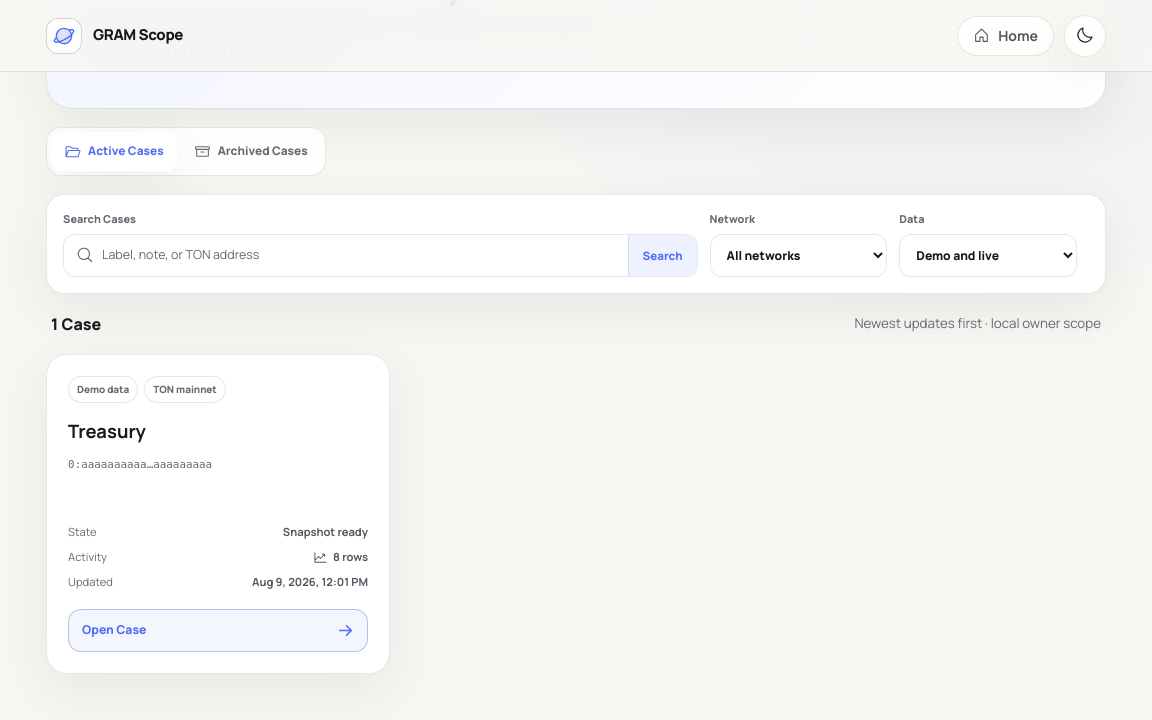
Test case: Wallet Case application flow › restores the Case library route and opens a selected Case
(page scrolled)
What coordinates should you click on to do the following:
click the button with aria-label "Open Case Treasury"
I would click on:
 (114, 630)
Its box is [68,609,368,652].
(page scrolled)
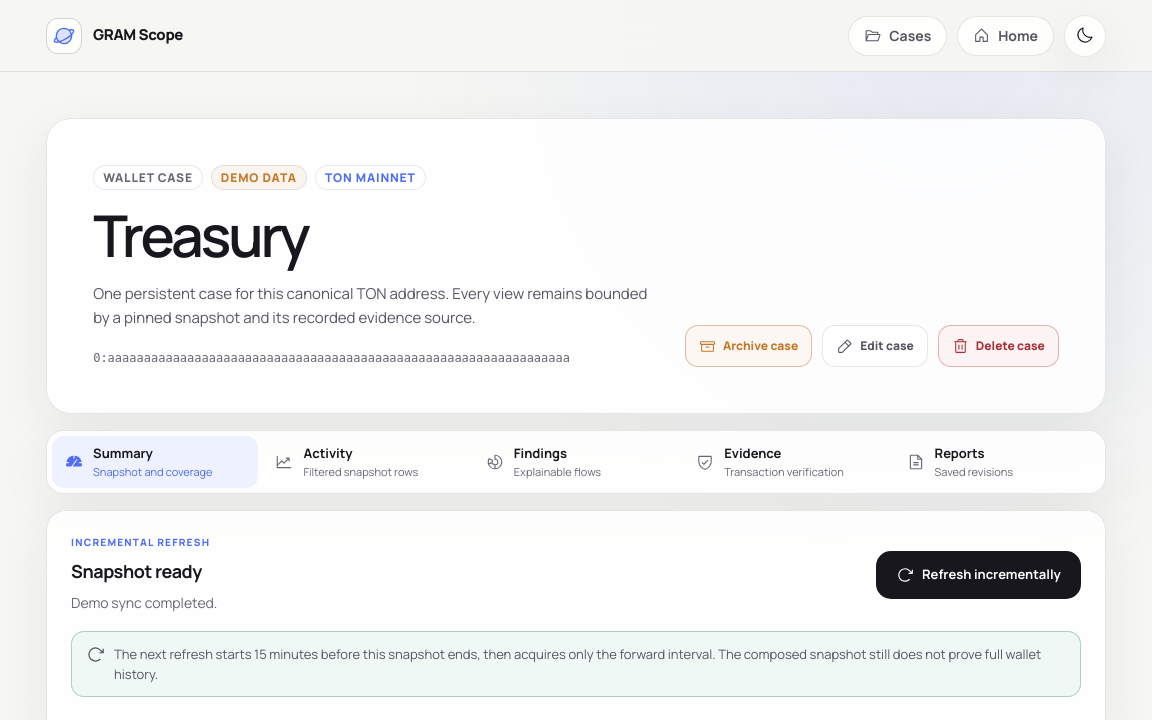
expect the heading "Treasury" is shown: met, box [93,196,307,274]
expect the button with aria-label "Open Case library" is shown: met, box [848,16,947,56]
